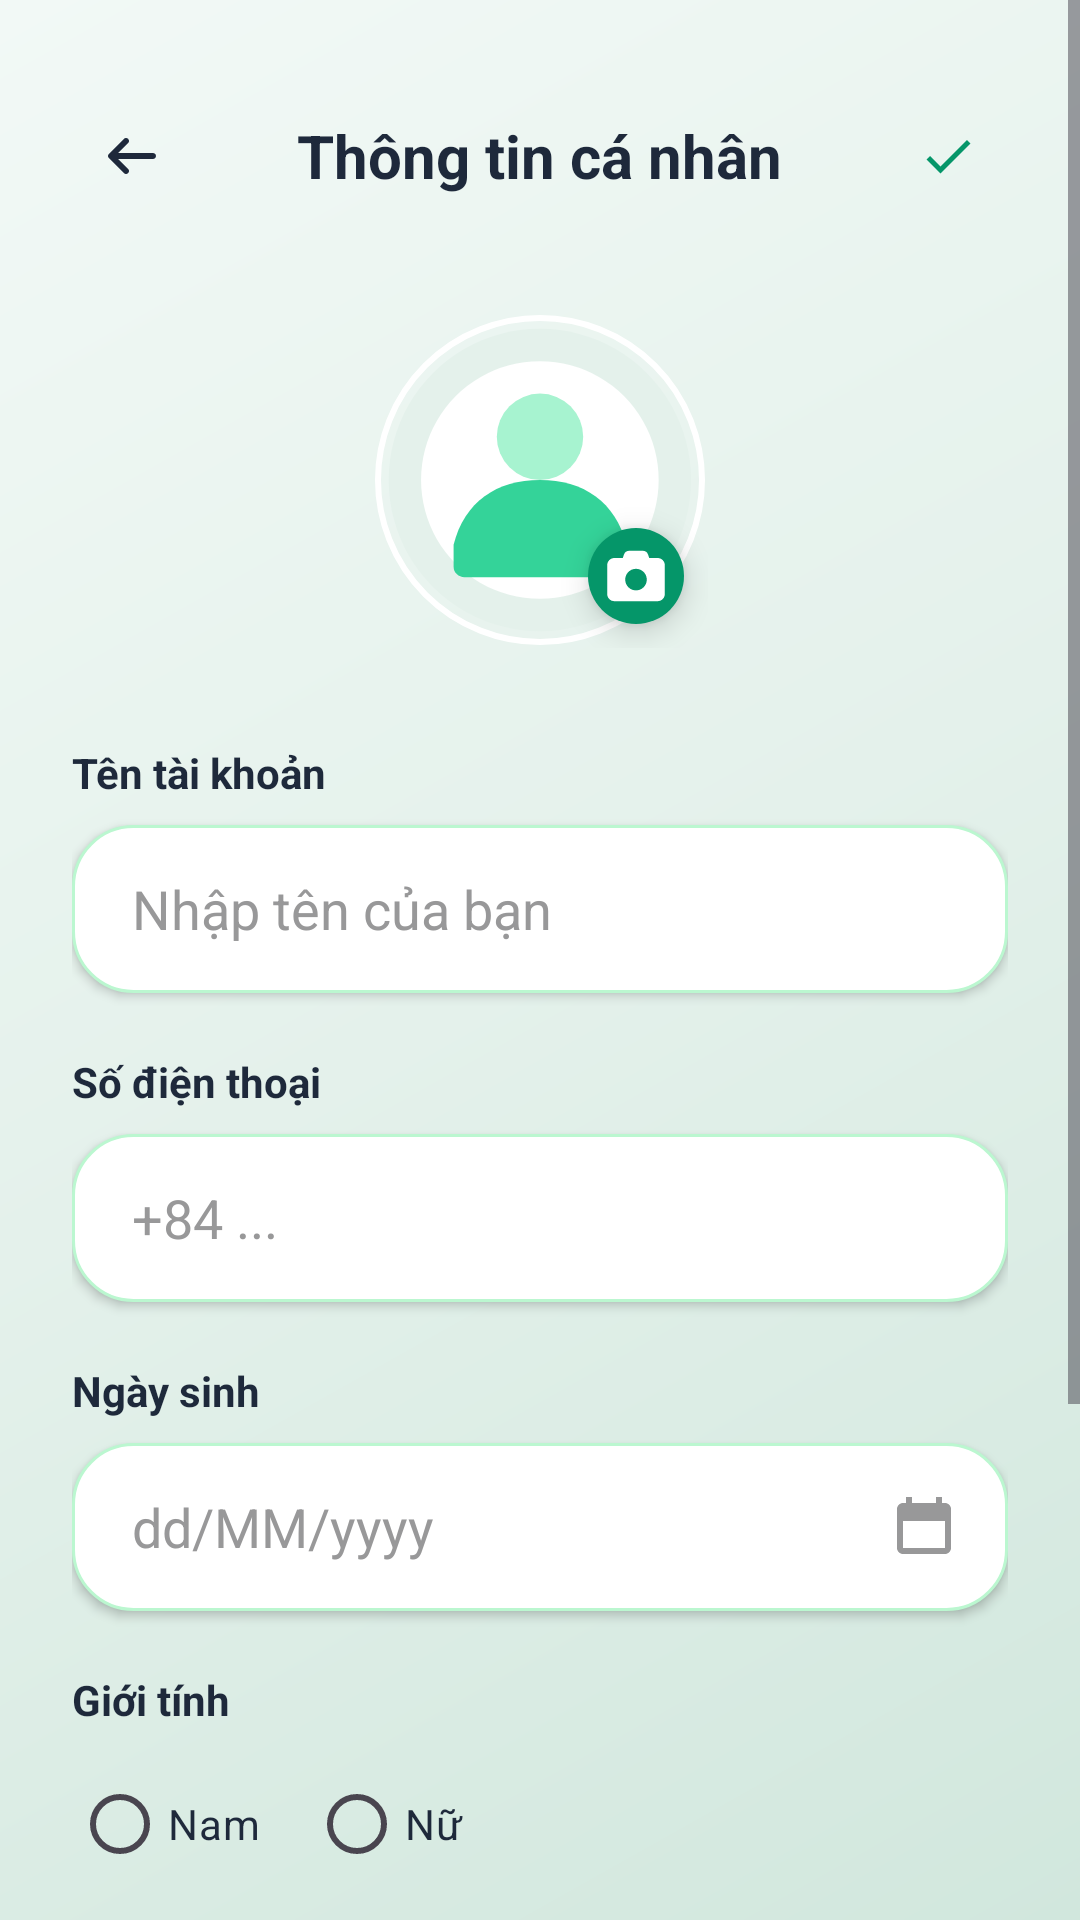

Screen size 1080w x 1920h. Icon name, then its center in pixels as (x=x, y=y):
calendar: (x=924, y=1525)
camera: (x=633, y=573)
check: (x=948, y=157)
left: (x=132, y=156)
